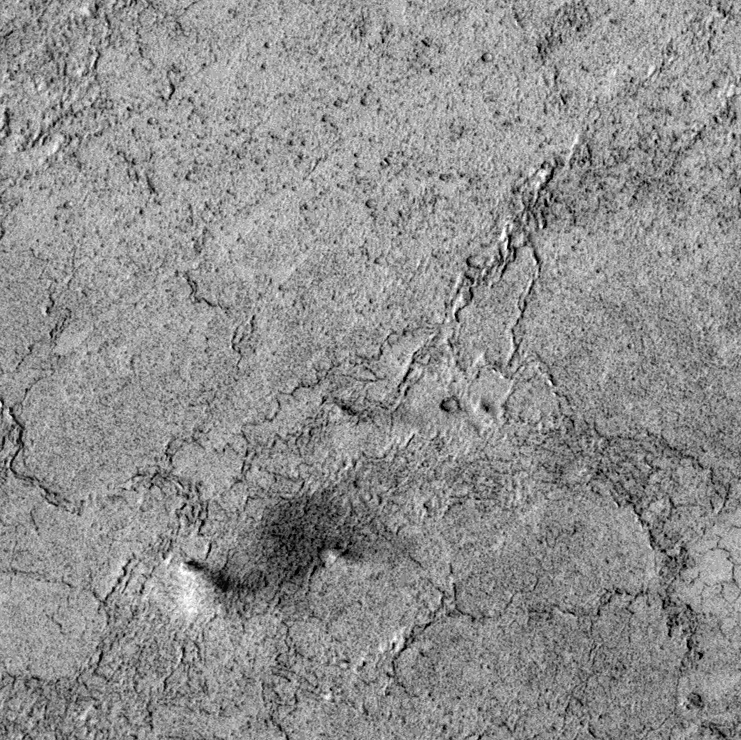dust_devil: (174, 482, 393, 618)
